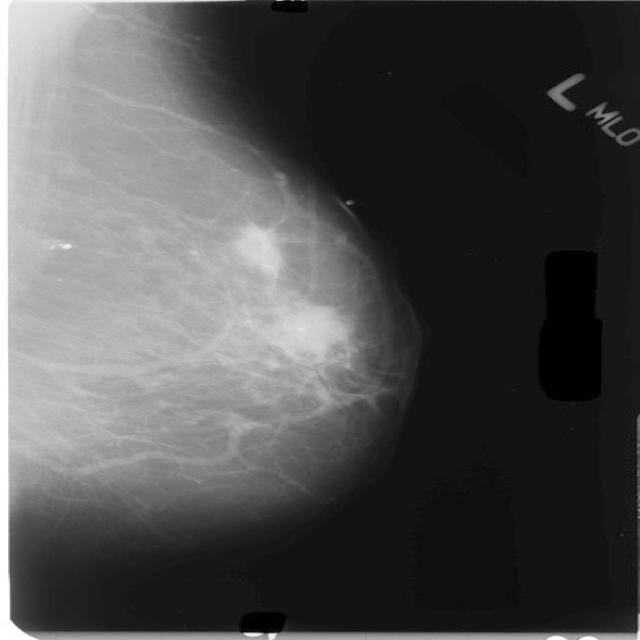tumour: (277, 304, 347, 354), (231, 222, 280, 276)
